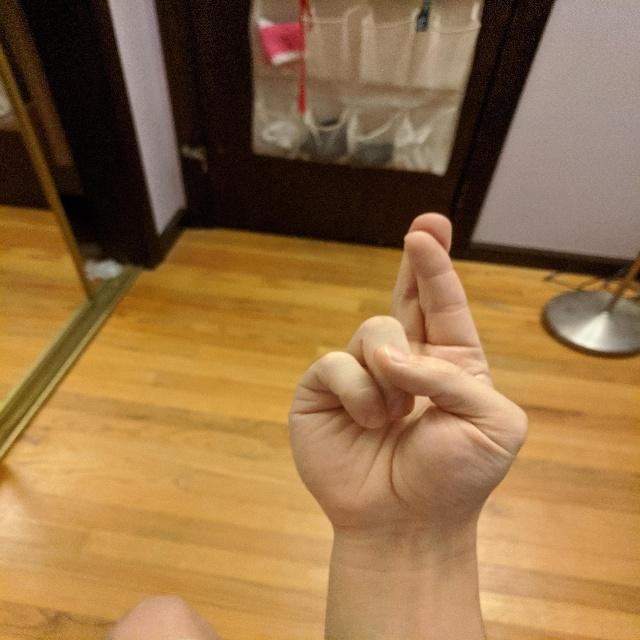R: (279, 207, 539, 545)
